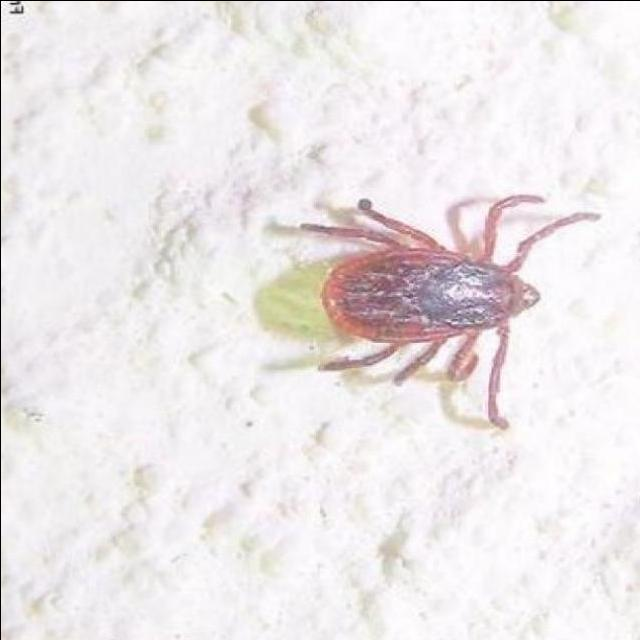Rhipicephalus Sanguineus-F: (268, 194, 603, 428)
